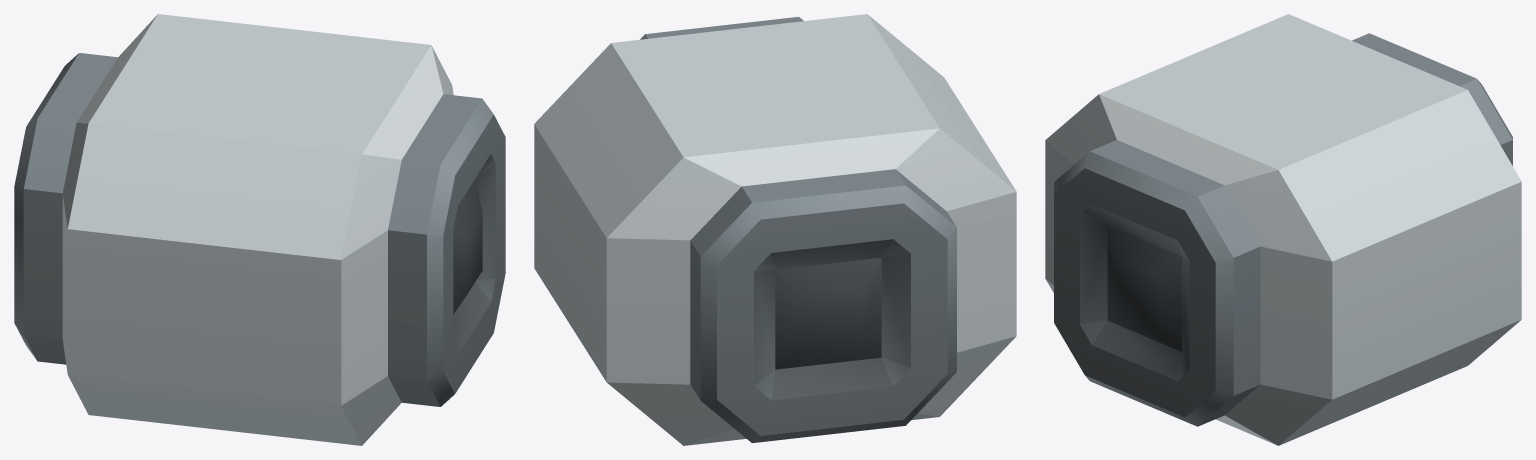
File: kaykit-space-base-bits-tunnel-diagonal-short-a.glb
The picture shows the model from 3 angles, left to right: view 1: azimuth 30°, elevation 25°; view 2: azimuth 150°, elevation 25°; view 3: azimuth 270°, elevation 25°; orthographic projection. The views are drawn at different scales.
Visible parts, largest first — view 1: tunnel_diagonal_short_A; view 2: tunnel_diagonal_short_A; view 3: tunnel_diagonal_short_A.
Part boxes in pixels (<box>): tunnel_diagonal_short_A: <box>14,14,505,445</box>; tunnel_diagonal_short_A: <box>534,14,1016,445</box>; tunnel_diagonal_short_A: <box>1045,14,1521,445</box>.
Size of the model in its own units: 0.939 by 0.6 by 0.939.
Materials: 1 (1 with a texture image).
